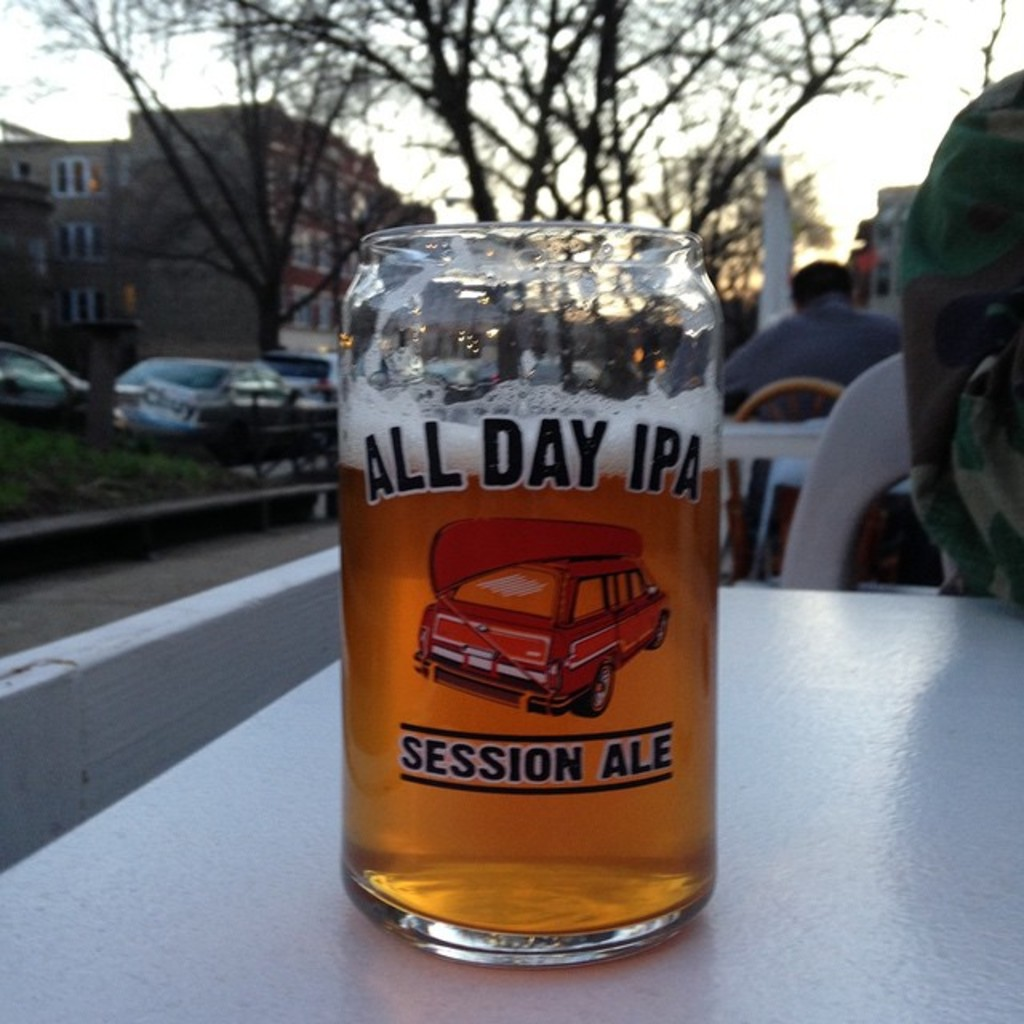Beer: (321, 211, 737, 969)
